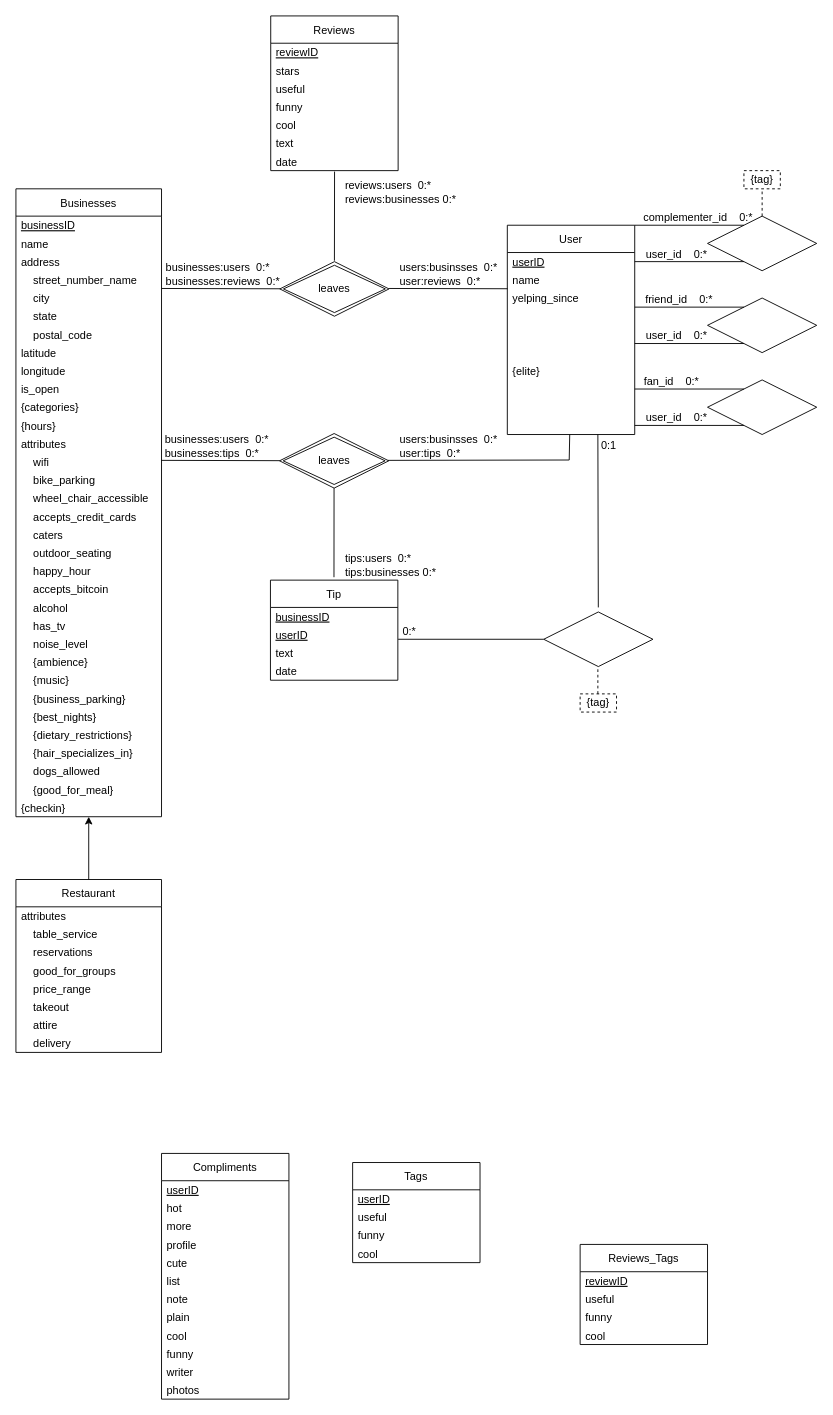
The diagram is 833 pixels wide and 1415 high, and some of its shapes have lost their labels. The centre of each missing label's shape, as x and y in pixels:
following: the point at 762,407
friends: the point at 762,325
tip_compliment: the point at 598,639
user_compliment: the point at 762,243
